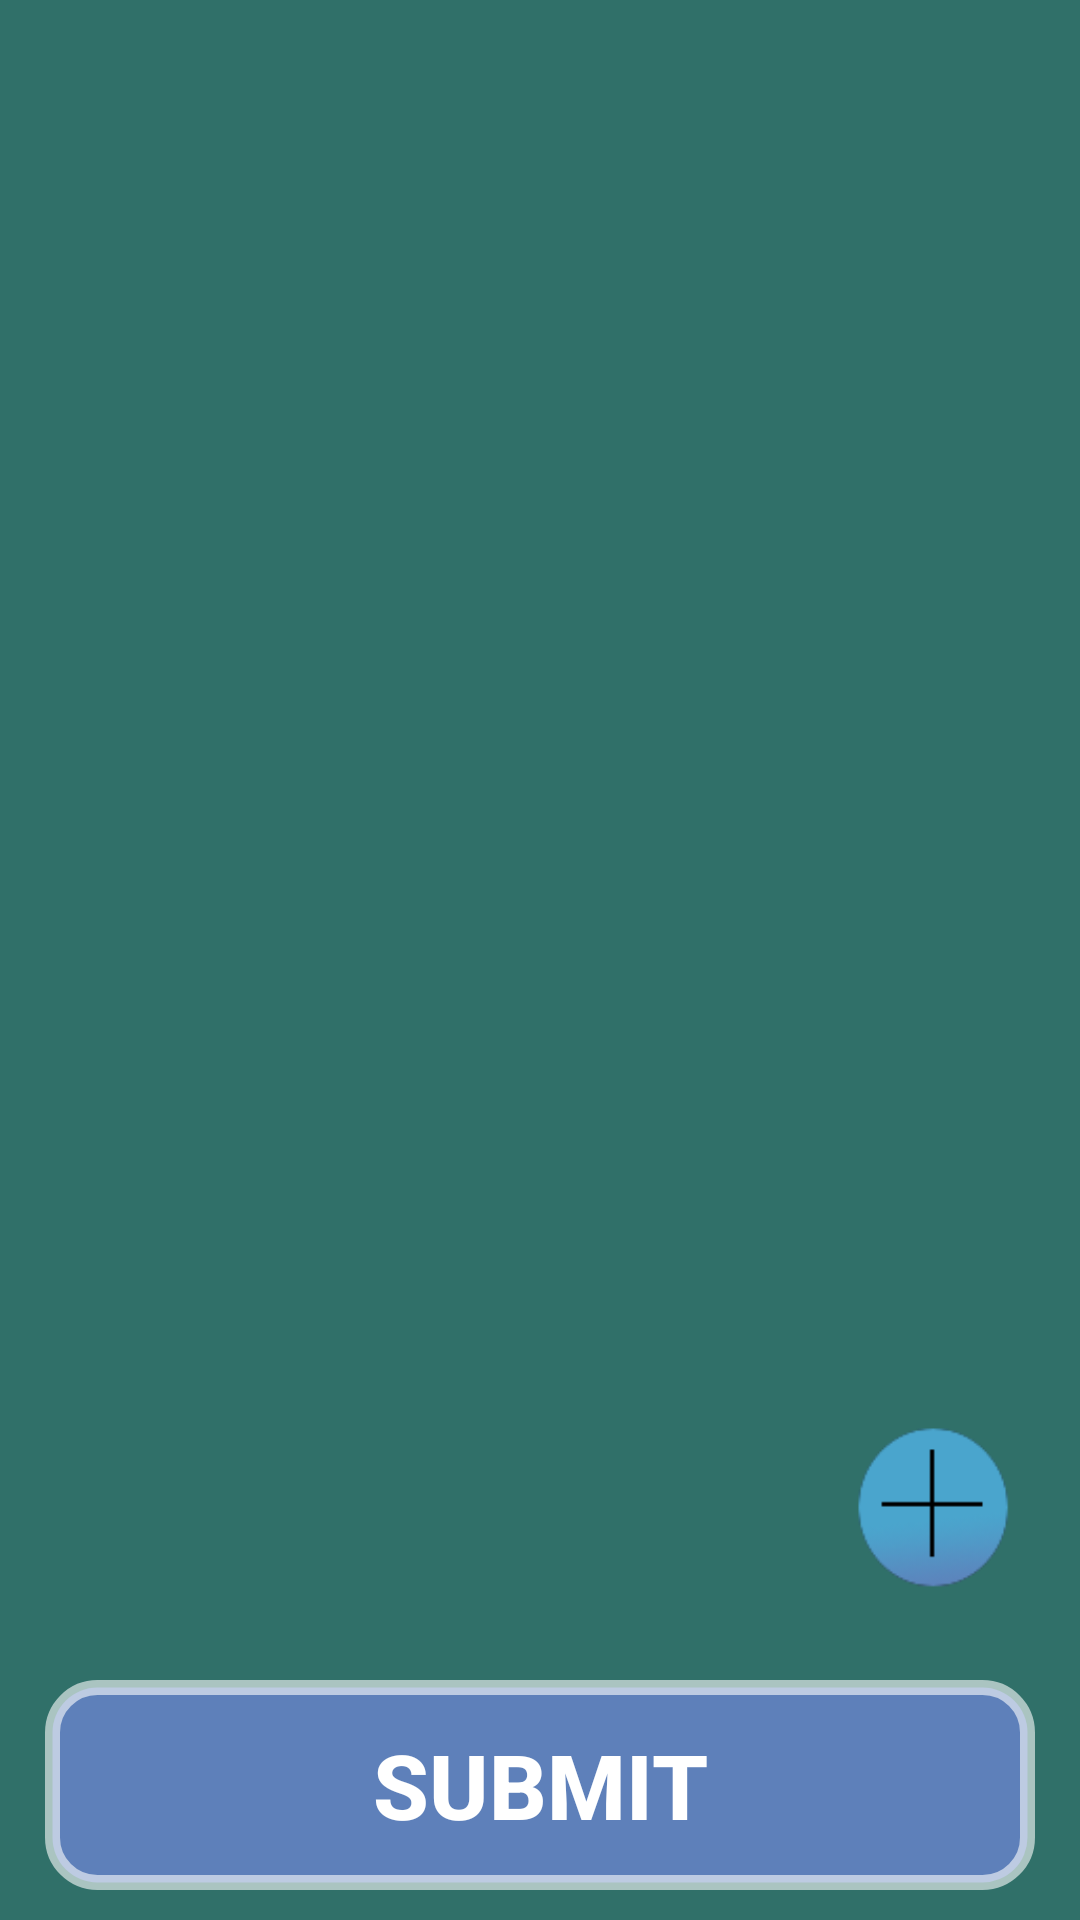

Named icons in this screenshot (1080x1920) and their bounding boxes, bbox=(x1, y1, x2, y2):
add: bbox=(858, 1428, 1008, 1587)
